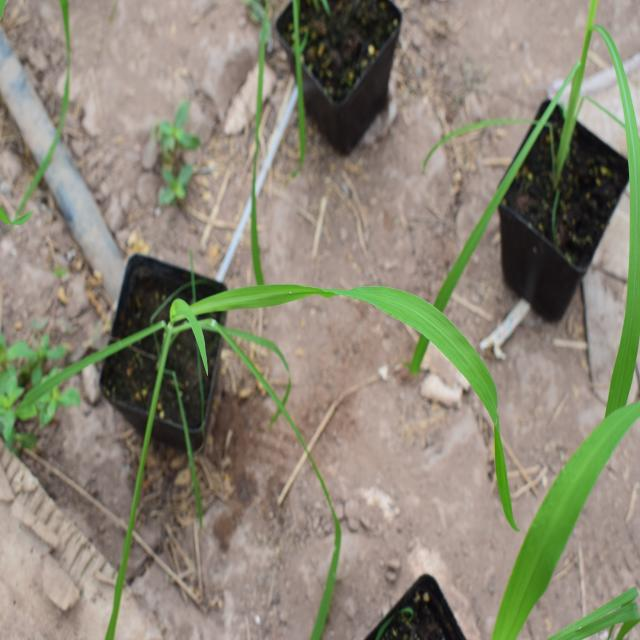barnyard_grass: (97, 252, 525, 526)
